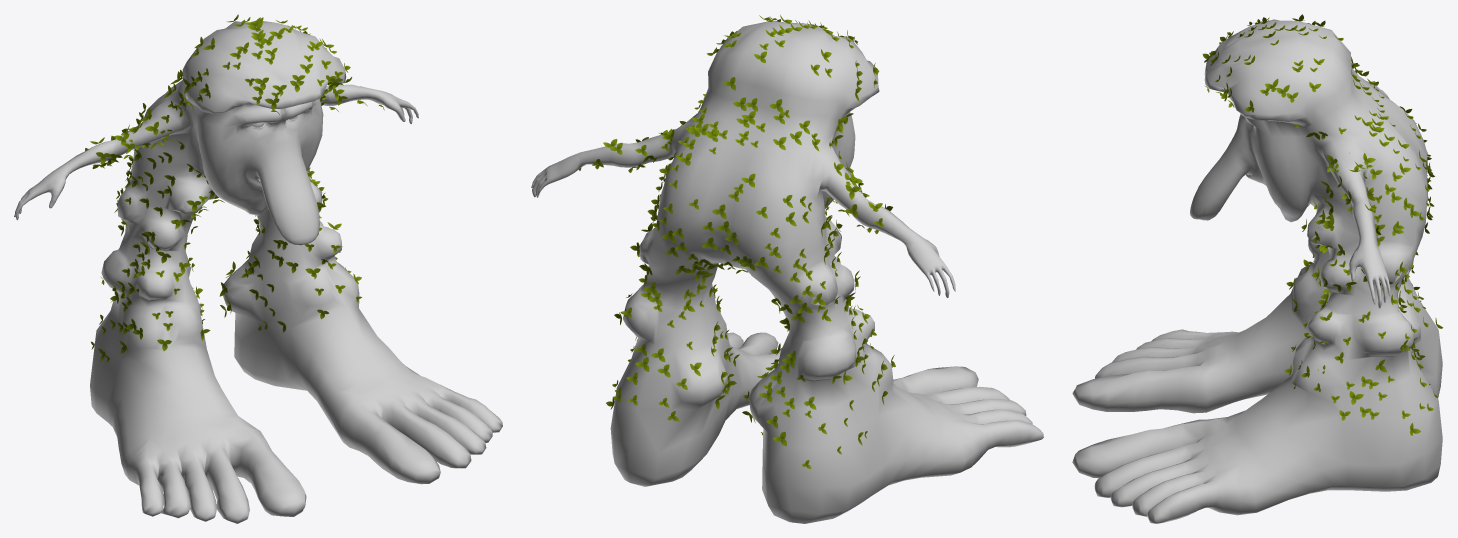
3 views of the same model, side by side, from view 1: azimuth 30°, elevation 25°; view 2: azimuth 150°, elevation 25°; view 3: azimuth 270°, elevation 25° (orthographic). The views are drawn at different scales.
Parts seen in each view (by area): view 1: Body_LP, stylized bush.002; view 2: Body_LP, stylized bush.002; view 3: Body_LP, stylized bush.002.
Part boxes in pixels (x1,y1,x2,y2): Body_LP: (14, 20, 502, 523); stylized bush.002: (85, 14, 384, 362); Body_LP: (531, 21, 1043, 523); stylized bush.002: (579, 15, 895, 468); Body_LP: (1072, 19, 1442, 523); stylized bush.002: (1202, 14, 1442, 435).
Size of the model in its own units: 1.06 by 1.02 by 0.8178.
